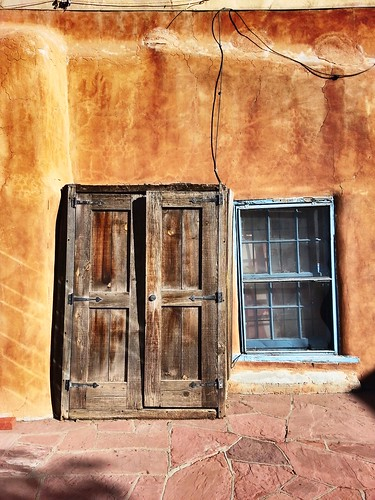door: (65, 197, 214, 420)
window: (241, 204, 337, 357)
